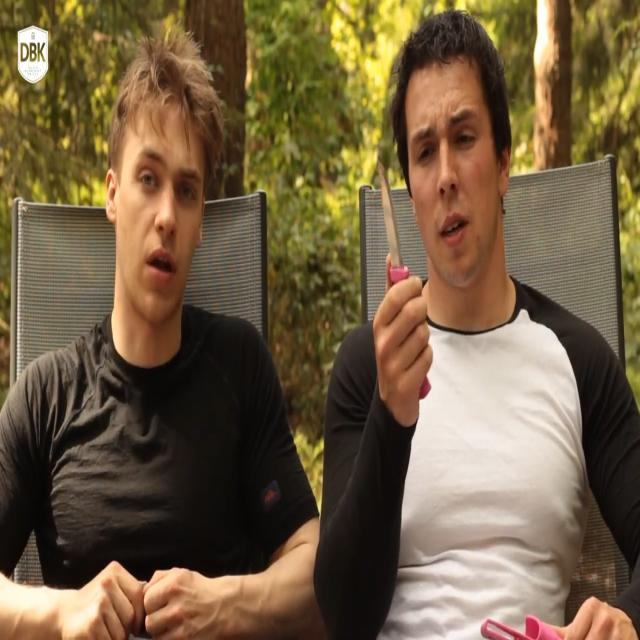knife: (377, 156, 409, 284)
